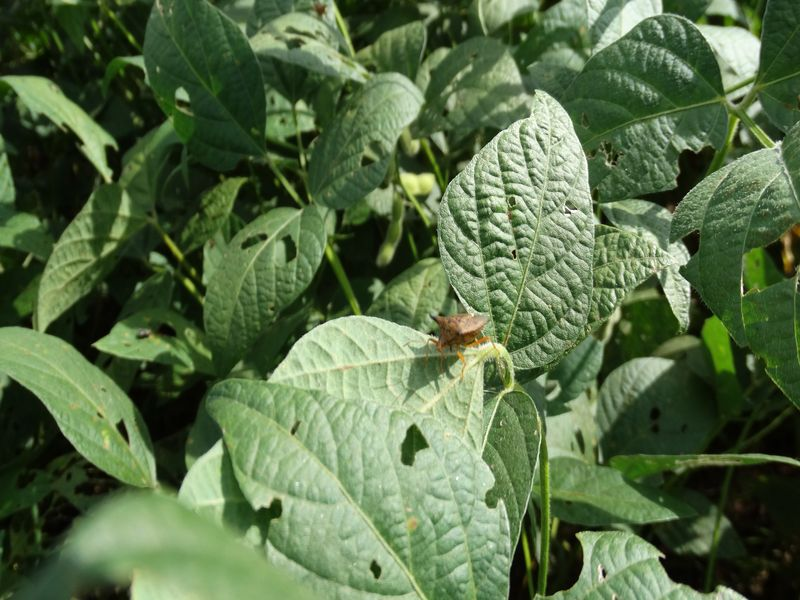Euschistus_heros_adulto: (418, 304, 501, 384)
